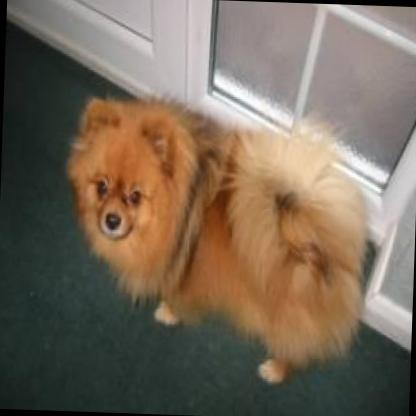Pomeranian: (62, 95, 368, 384)
